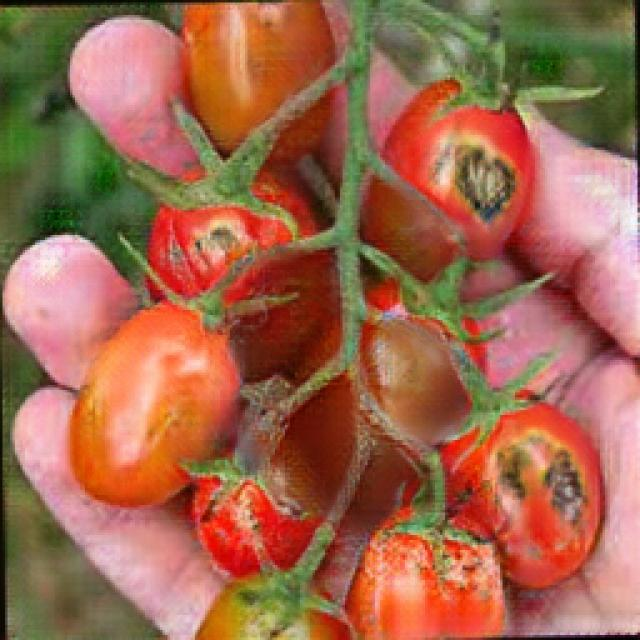overripe tomato: (147, 165, 323, 363), (370, 77, 532, 280), (441, 394, 608, 588), (182, 428, 344, 580), (357, 513, 513, 640)
